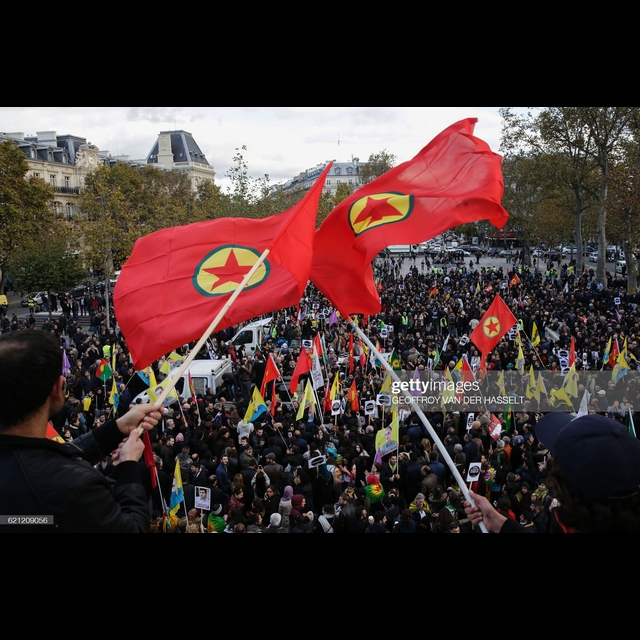PKK: (189, 242, 273, 294), (343, 187, 417, 236), (482, 314, 502, 338)
